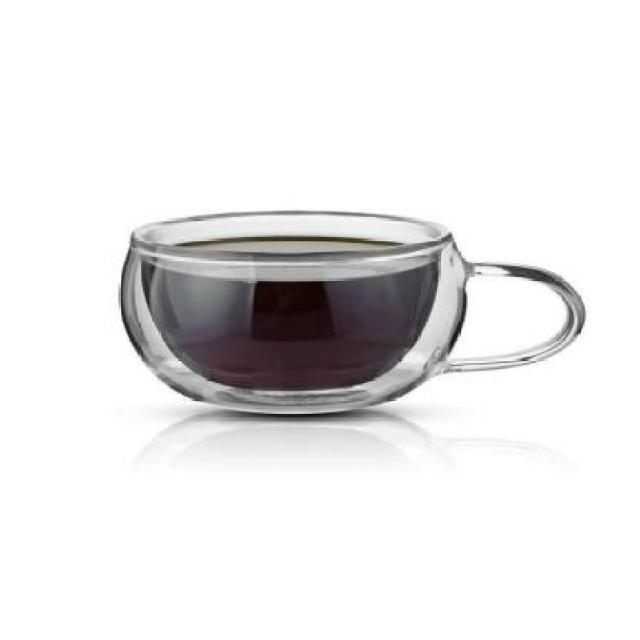taza: (28, 103, 584, 572)
